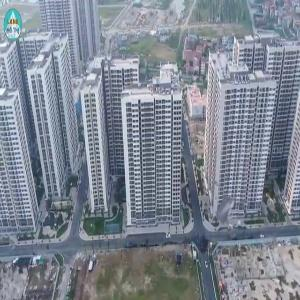drone: (199, 184, 265, 250)
